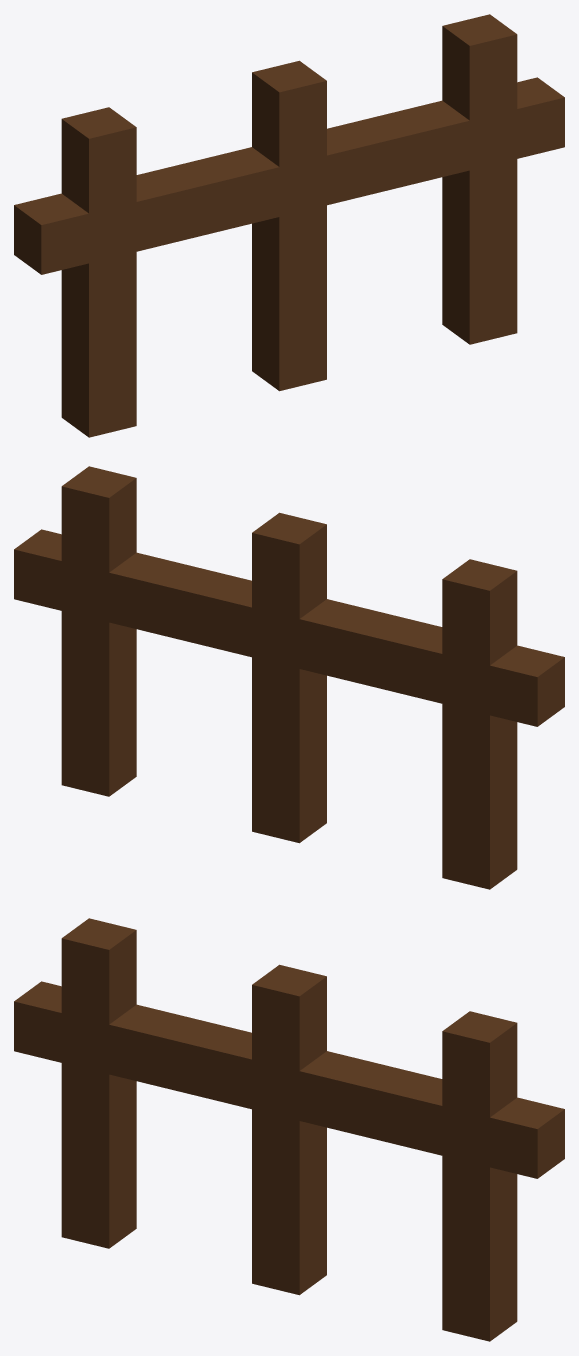
The model's file is decoration_1x2_fence02.gltf.
The picture shows the model from 3 angles, top to bottom: view 1: azimuth 30°, elevation 25°; view 2: azimuth 150°, elevation 25°; view 3: azimuth 330°, elevation 25°; orthographic projection.
Parts seen in each view (by area): view 1: fence-Local; view 2: fence-Local; view 3: fence-Local.
Part boxes in pixels (left/top/right/bottom): fence-Local: left=14, top=14, right=564, bottom=437; fence-Local: left=14, top=466, right=564, bottom=889; fence-Local: left=14, top=918, right=564, bottom=1341.
Size of the model in its own units: 22 by 12 by 2.
1 material, 1 textured.
